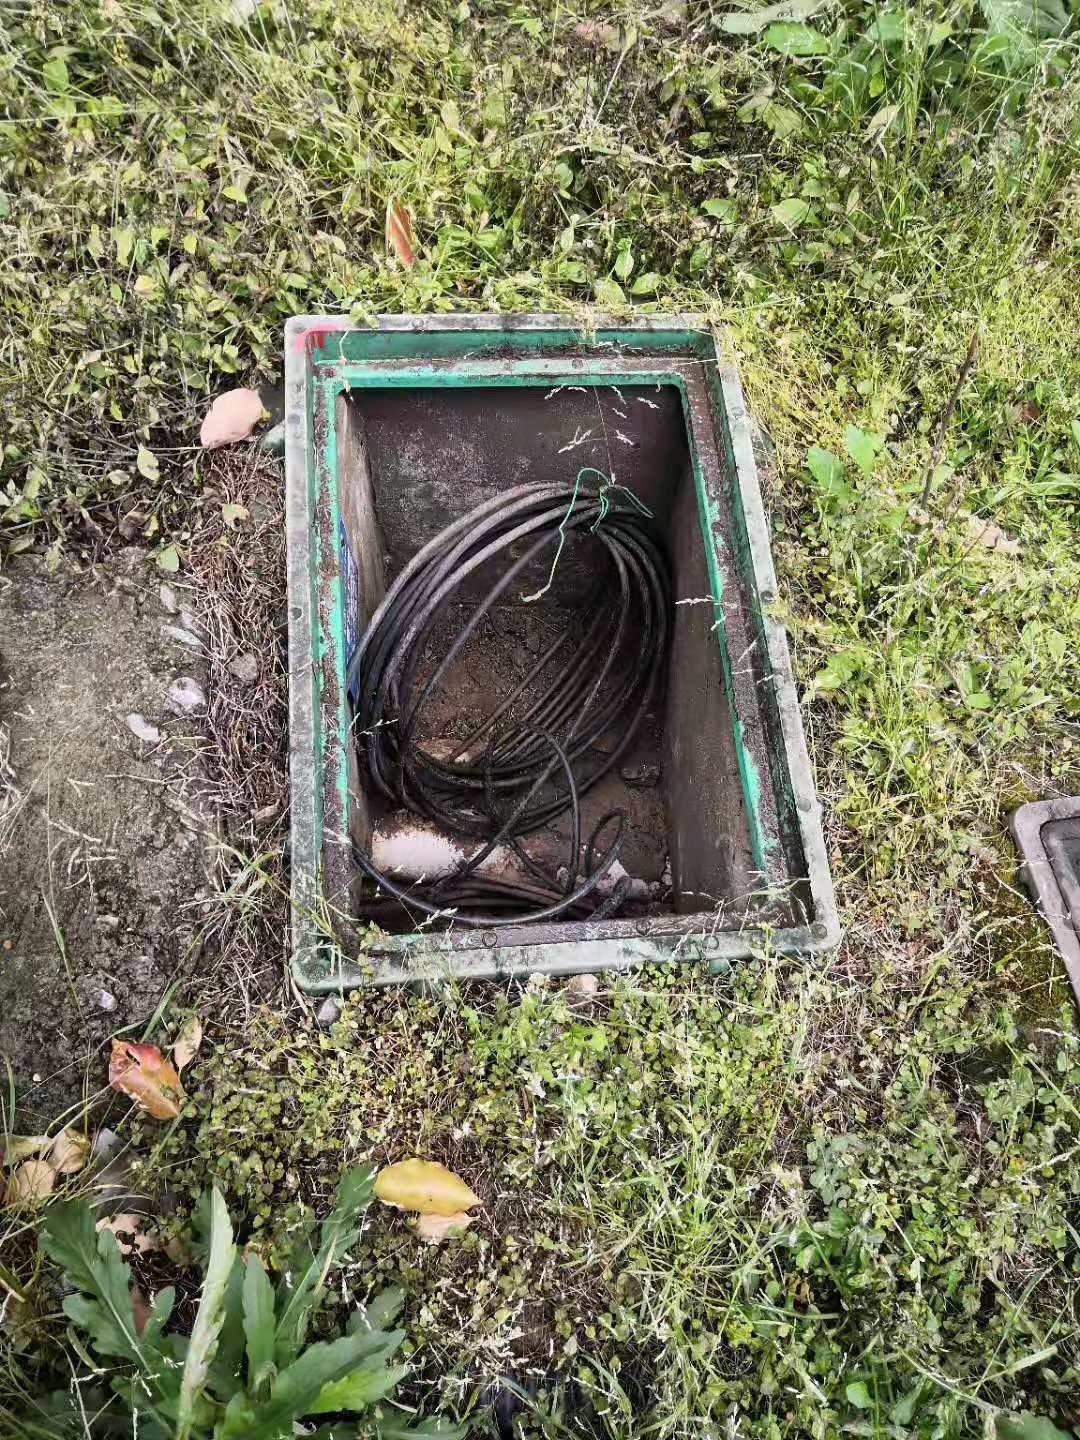lose: (279, 308, 843, 997)
